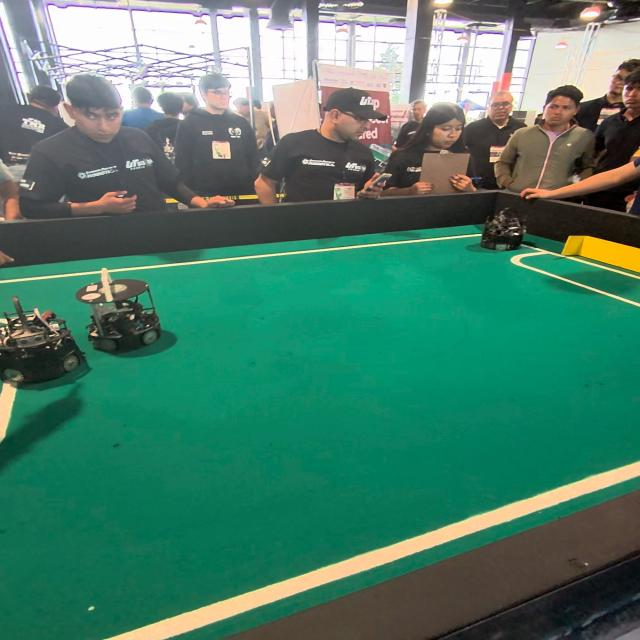Robot: (0, 296, 84, 391), (83, 269, 172, 357), (478, 204, 527, 253)
